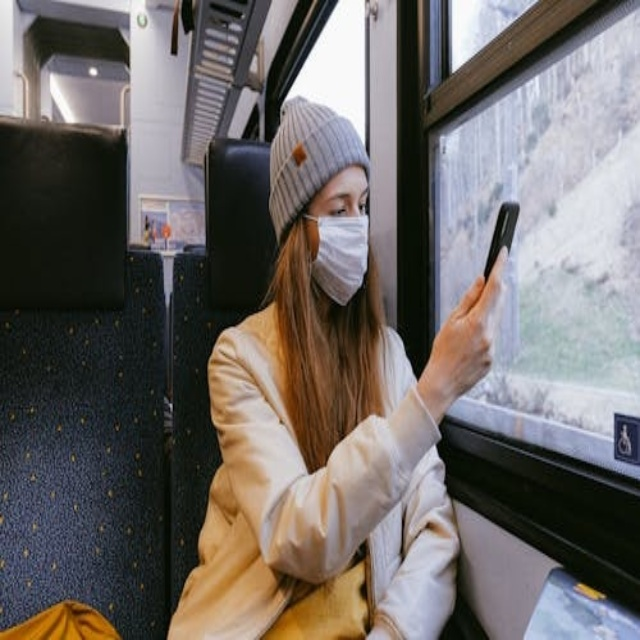Gafas: (300, 197, 370, 225)
Mascara: (303, 211, 369, 305)
Sin_gafas: (331, 205, 348, 217), (359, 200, 368, 215)
Sin_guantes: (421, 250, 507, 416)
